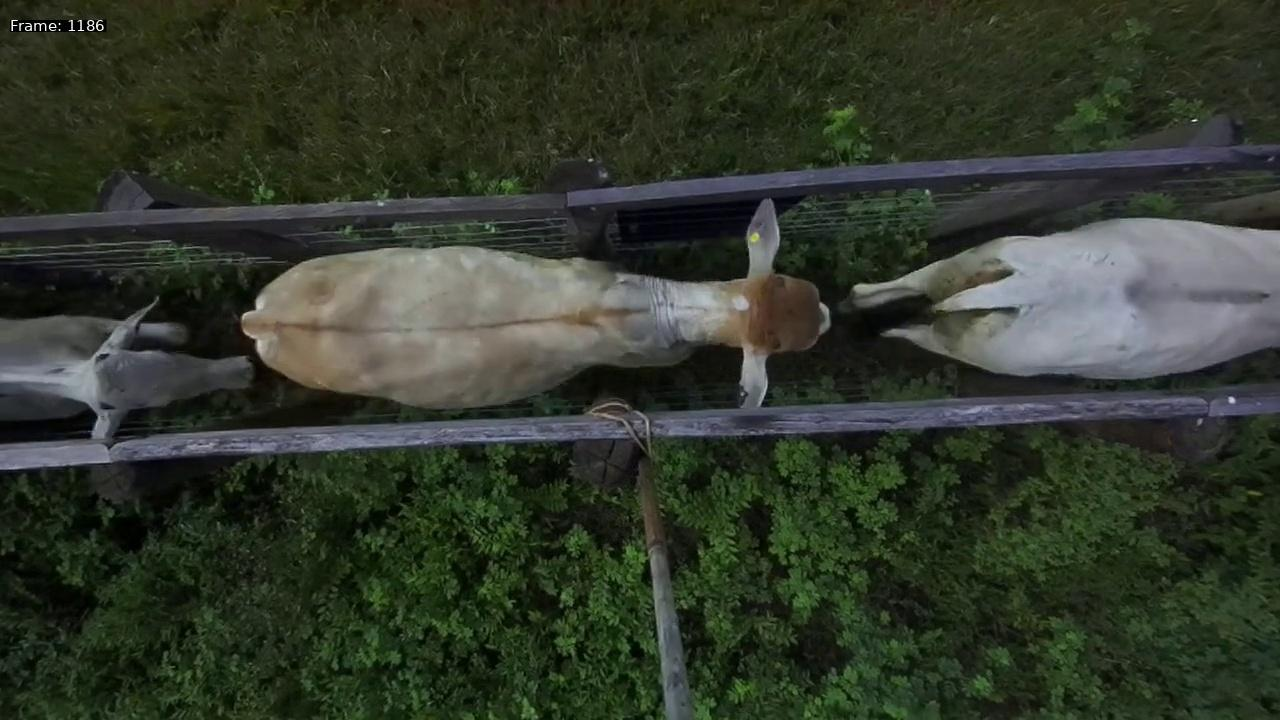Dorso: (252, 237, 681, 413)
cattle: (229, 185, 839, 428)
